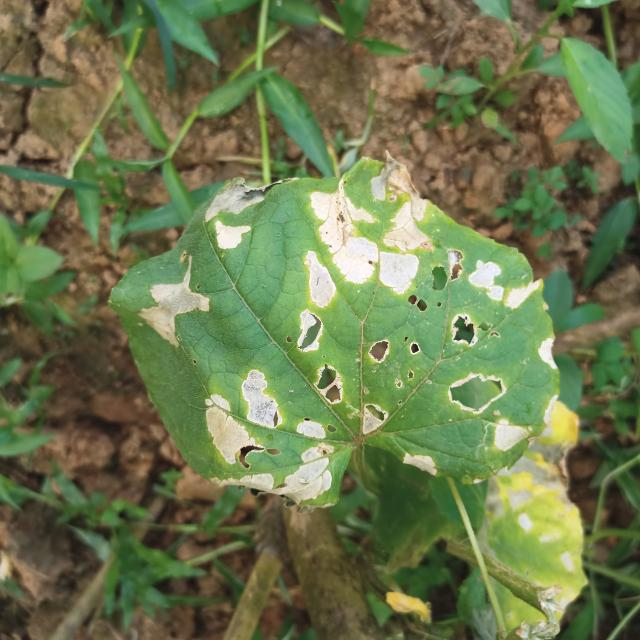disease_cucumber: (132, 192, 546, 494)
